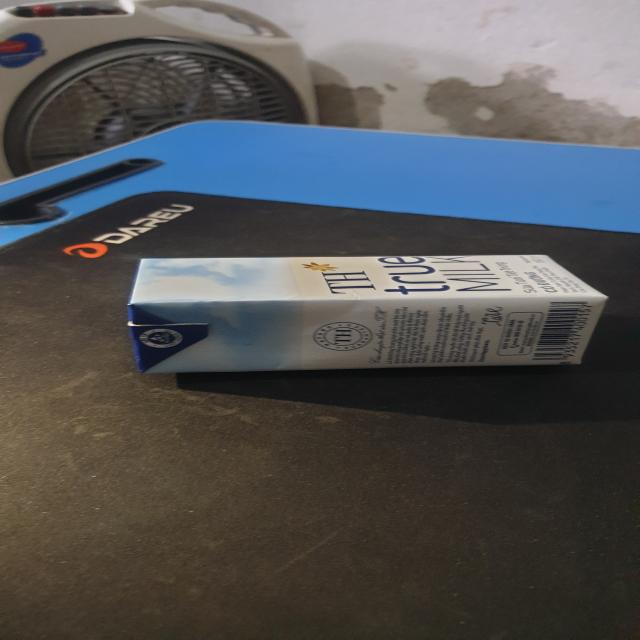TH: (121, 252, 615, 381)
